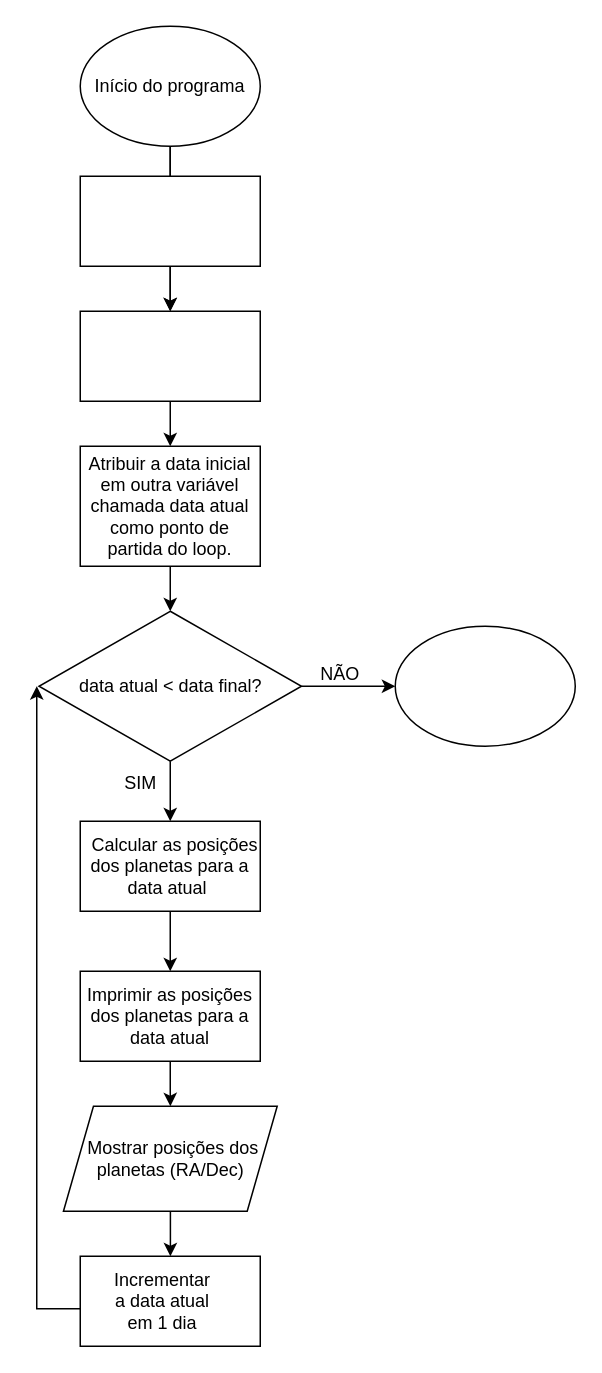
Some shapes in this 602 by 1373 pixel diagram are drawn without their labels. The centre of each missing label's shape, as x and y in pixels:
"Criar os objetos para os cinco primeiros planetas" belongs at (x=169, y=355).
"Definir data inicial e final" belongs at (x=169, y=220).
"Fim" belongs at (x=484, y=685).
